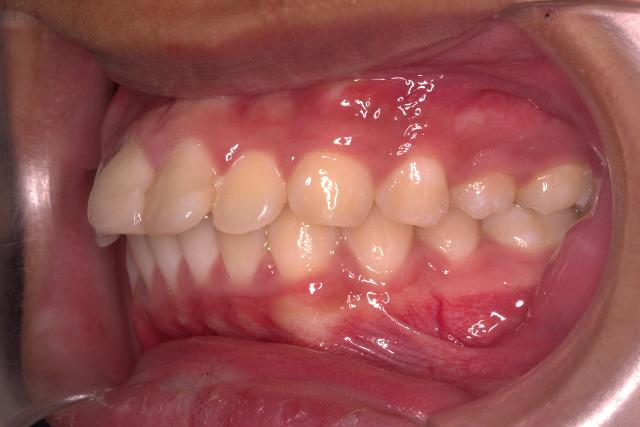canine class II 1/4: (263, 148, 419, 282)
molar class III 1/4: (482, 152, 598, 258)
